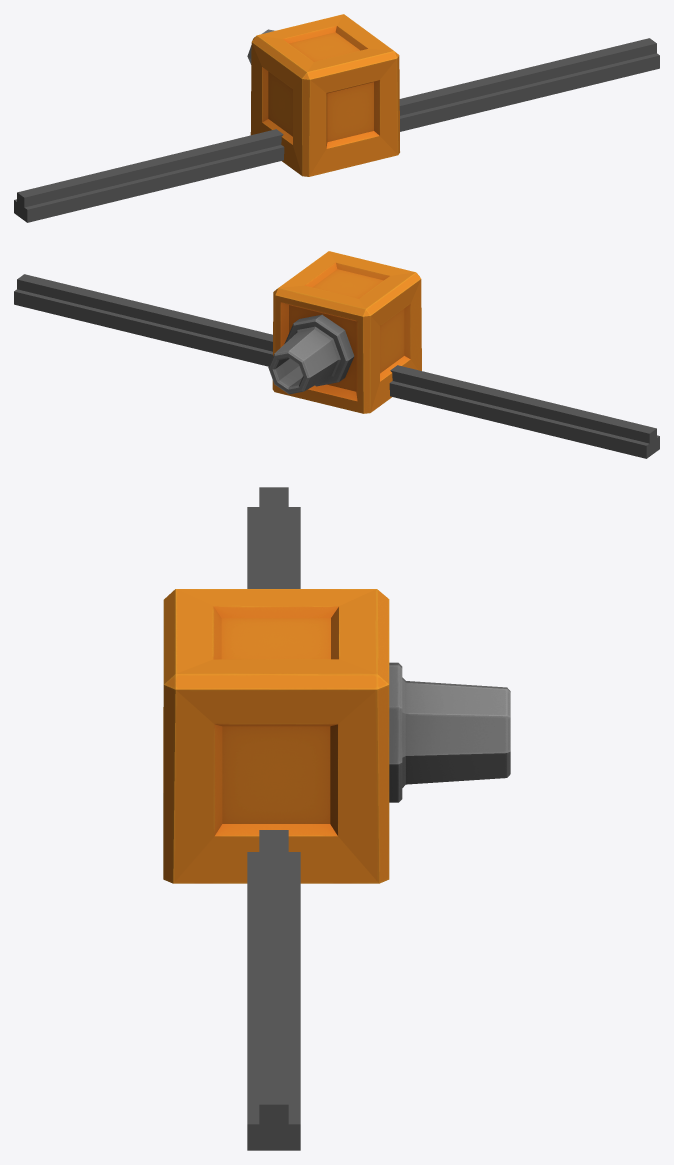
Rendered from trackGun.fbx.
The picture shows the model from 3 angles, top to bottom: view 1: azimuth 30°, elevation 25°; view 2: azimuth 150°, elevation 25°; view 3: azimuth 270°, elevation 25°; orthographic projection. The views are drawn at different scales.
Visible parts, largest first — view 1: gun_geo, track_geo; view 2: gun_geo, track_geo; view 3: gun_geo, track_geo.
Boxes of the visible parts, box(x1,y1,x2,y2) form: gun_geo: box(247, 14, 399, 176); track_geo: box(14, 38, 659, 222); gun_geo: box(268, 251, 421, 413); track_geo: box(14, 274, 659, 458); gun_geo: box(163, 589, 510, 883); track_geo: box(247, 487, 300, 1150).
Bounding box in the file's own units: 37.56 × 5.8 × 8.93.
1 material, 1 textured.
